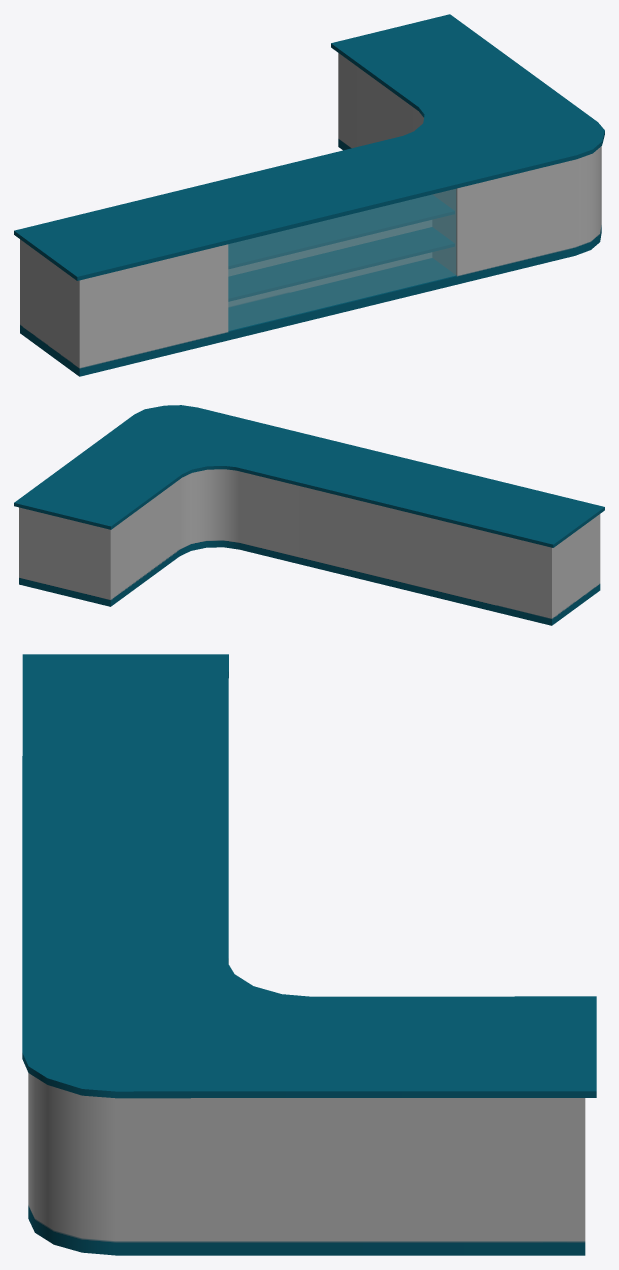
File: Reception.fbx
3 views of the same model, one above another, from view 1: azimuth 30°, elevation 25°; view 2: azimuth 150°, elevation 25°; view 3: azimuth 270°, elevation 25° (orthographic). The views are drawn at different scales.
Parts seen in each view (by area): view 1: Reception2; view 2: Reception2; view 3: Reception2.
Boxes of the visible parts, x1,y1,x2,y2 form: Reception2: (14, 14, 604, 376); Reception2: (14, 405, 604, 625); Reception2: (22, 654, 596, 1255).
Bounding box in the file's own units: 411 × 73.05 × 228.
